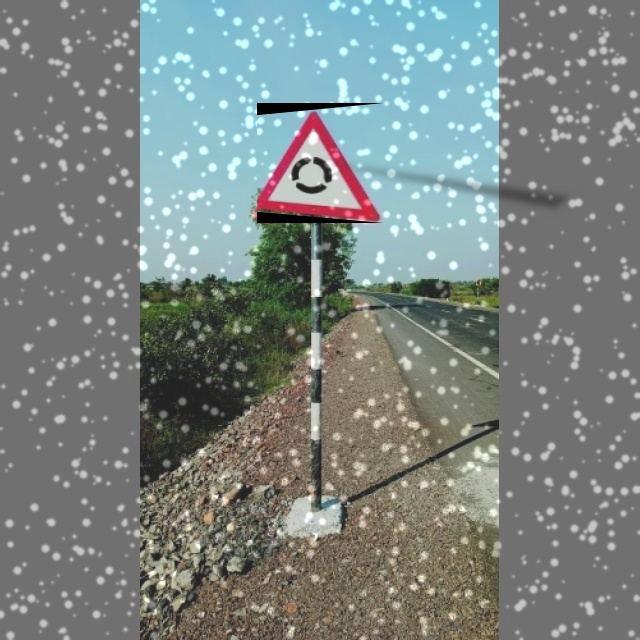Round_About: (257, 103, 384, 223)
